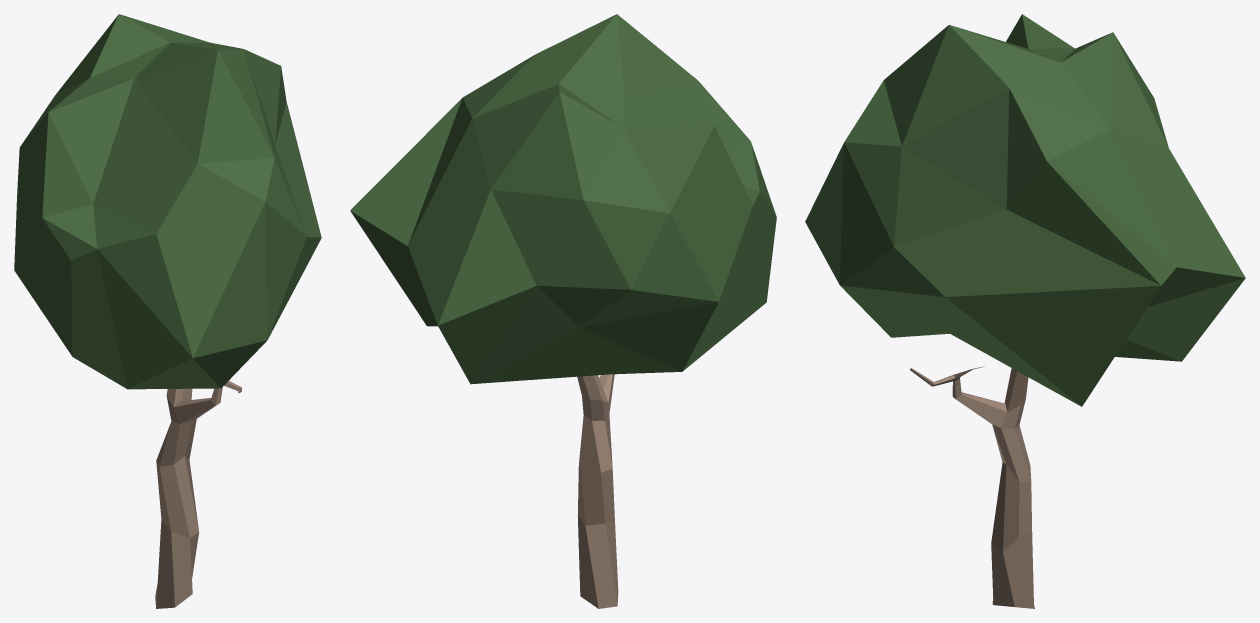
File: tree4.fbx
The picture shows the model from 3 angles, left to right: view 1: azimuth 30°, elevation 25°; view 2: azimuth 150°, elevation 25°; view 3: azimuth 270°, elevation 25°; orthographic projection. The views are drawn at different scales.
Parts seen in each view (by area): view 1: Icosphere, Tree; view 2: Icosphere, Tree; view 3: Icosphere, Tree.
Part boxes in pixels (x1,y1,x2,y2): Icosphere: [14, 14, 321, 389]; Tree: [155, 381, 241, 608]; Icosphere: [350, 14, 776, 384]; Tree: [577, 374, 618, 608]; Icosphere: [805, 14, 1245, 406]; Tree: [910, 366, 1034, 608].
Size of the model in its own units: 361 by 604 by 404.
